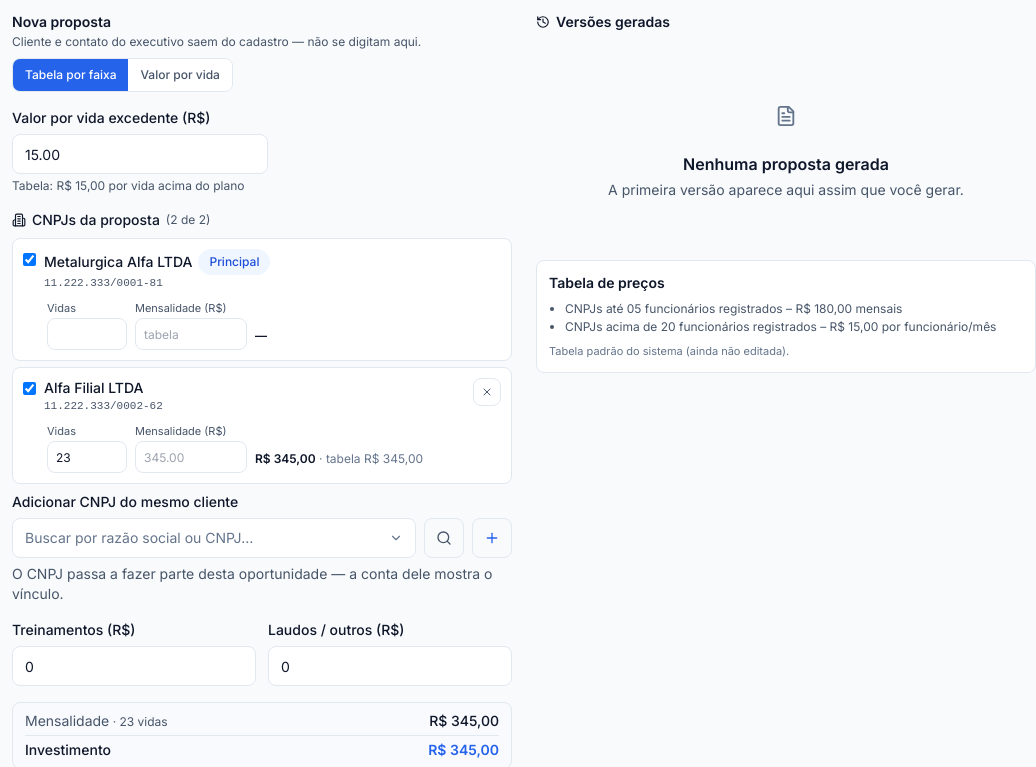
Test: AbaProposta — vários CNPJs › valor por vida: campo único e linhas derivadas
The width and height of the screenshot is (1036, 767).
Click the radio button labelled "Valor por vida" at (180, 75), box [128,59,232,91]
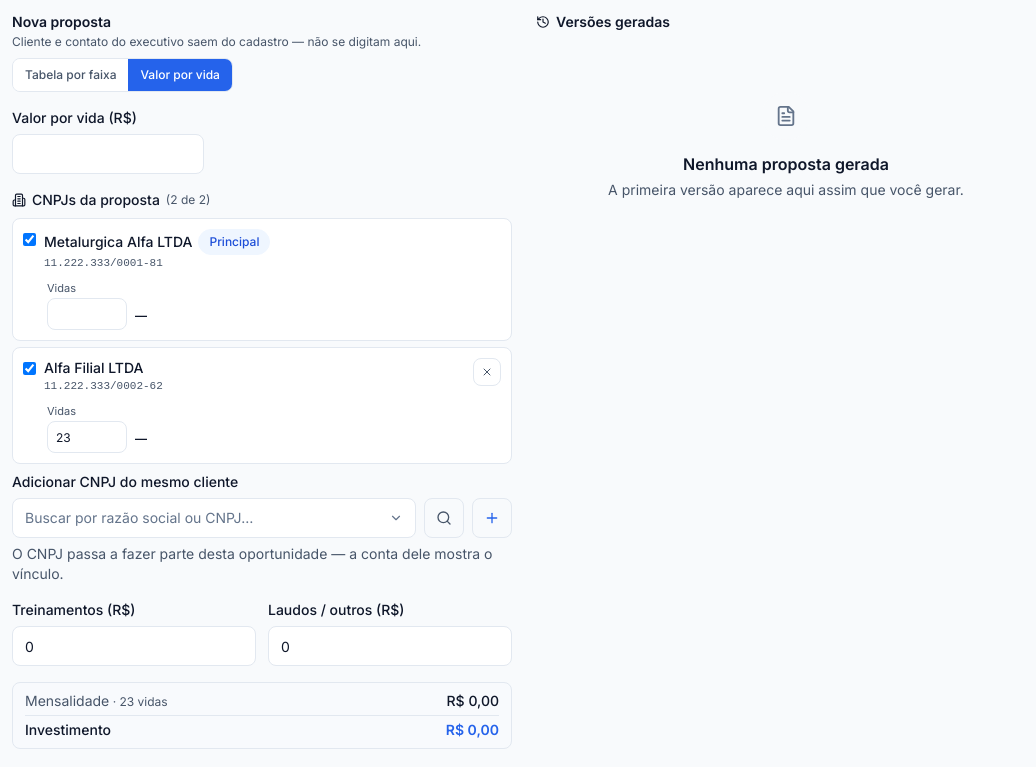
Type "10" into the number field named "Vidas de Metalurgica Alfa LTDA" at (87, 314), box [47,298,127,330]
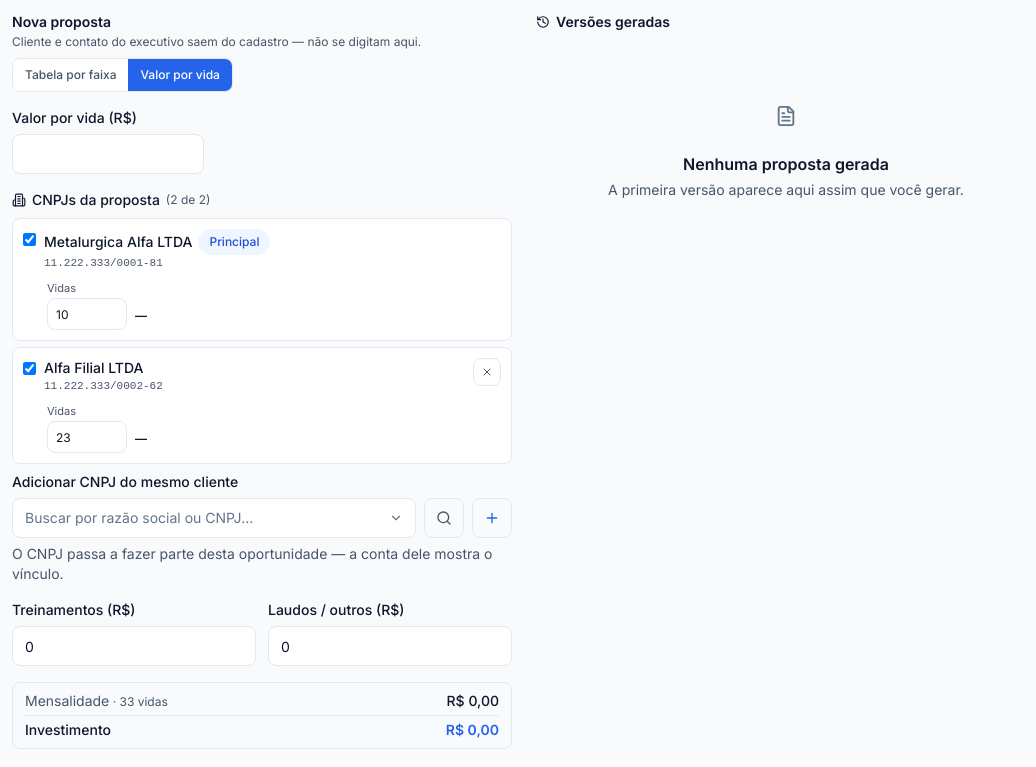
Type "20" into the number field labelled "Valor por vida (R$)" at (108, 154), box [12,134,204,174]
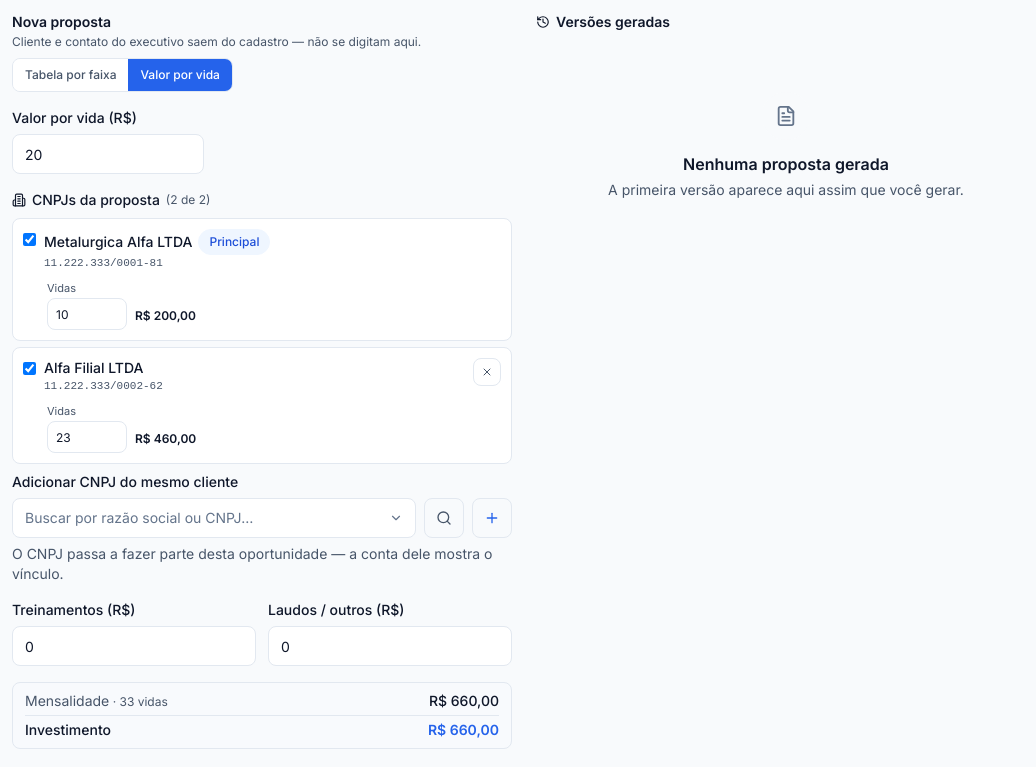
Expected: the text with test id "calc-mensalidade" shows "660,00", [429,692,499,709]
